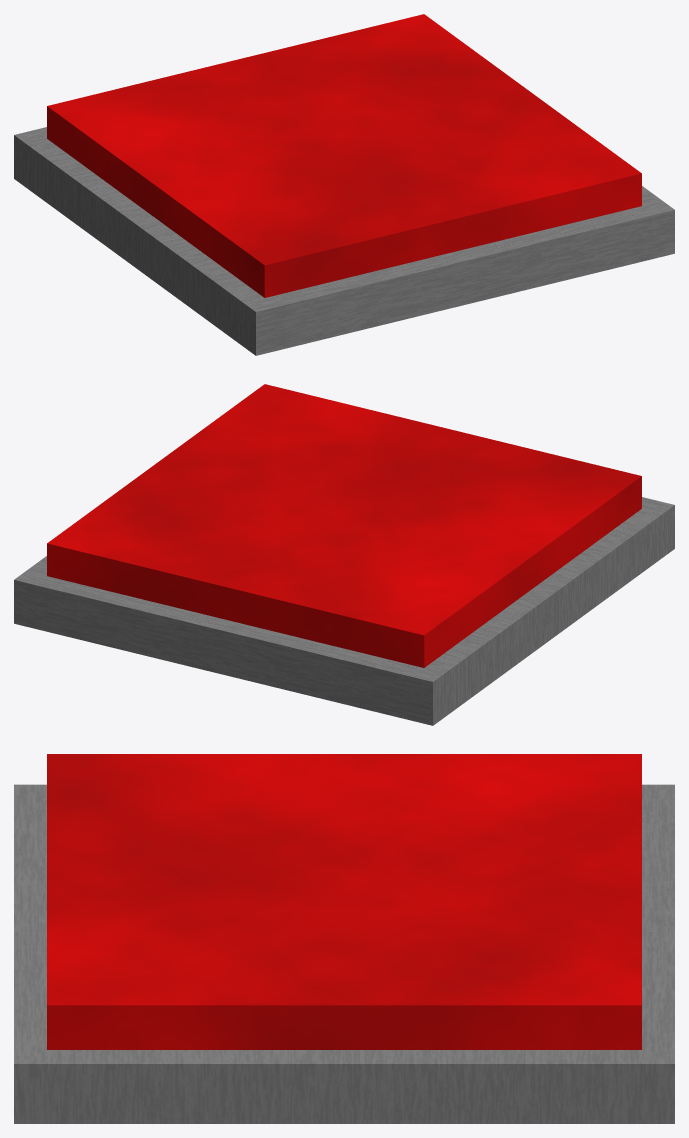
Rendered from button.obj.
The picture shows the model from 3 angles, top to bottom: view 1: azimuth 30°, elevation 25°; view 2: azimuth 150°, elevation 25°; view 3: azimuth 270°, elevation 25°; orthographic projection. The views are drawn at different scales.
Size of the model in its own units: 1 by 0.1745 by 1.
